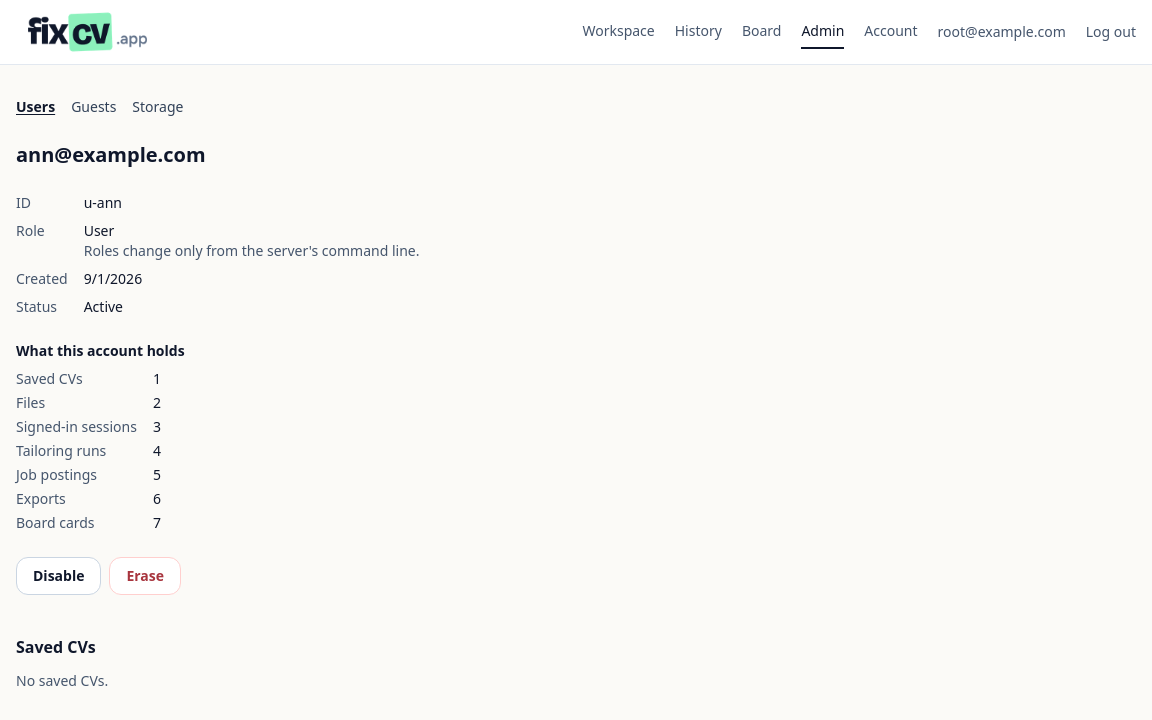
Disable and enable — AC-34 › a refused disable shows an alert in place and leaves the button usable; it is not re-sent
Click the button "Disable": (59, 576) [16,557,102,595]
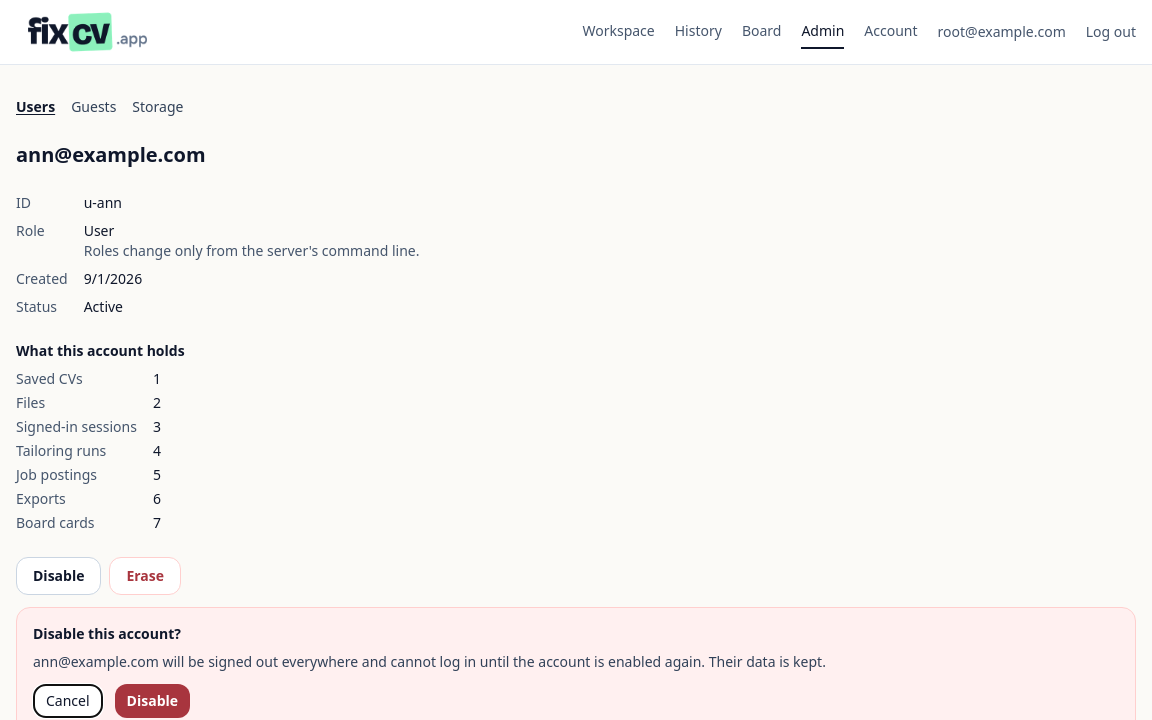
Click the button "Disable" below "Disable this account?": (152, 701) [115,684,190,718]
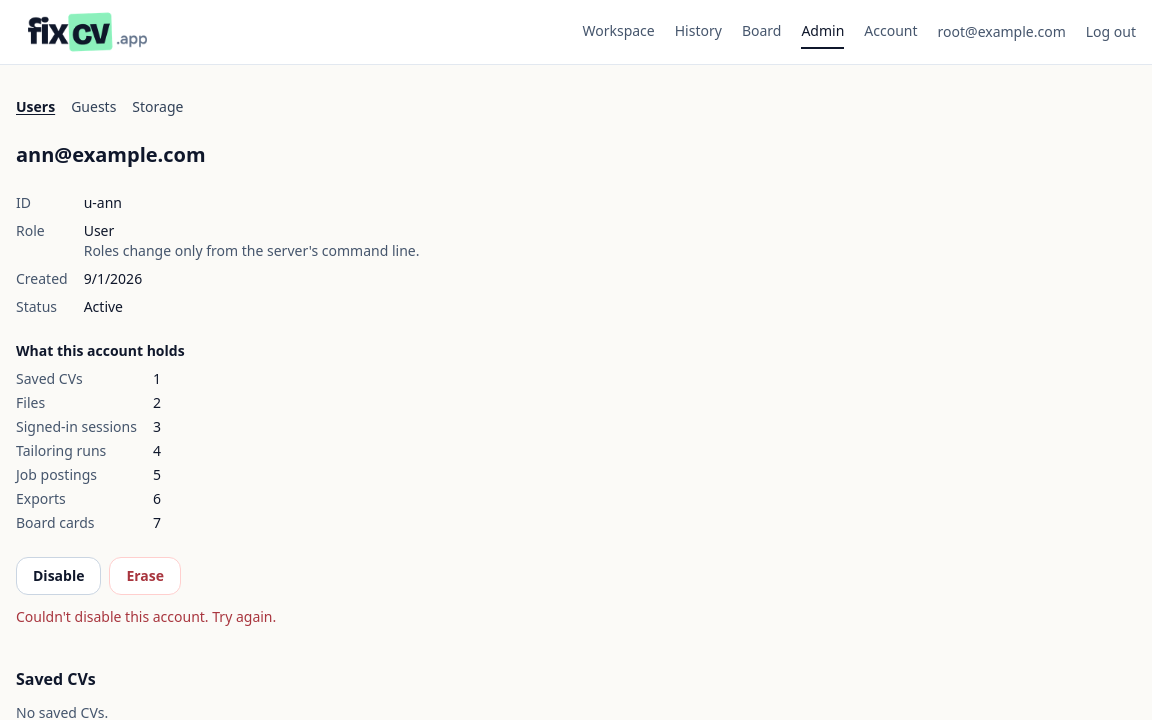
Check: the button "Disable" is enabled, box [16,557,102,595]
Check: the message reads "Couldn't disable this account. Try again.", box [16,607,276,626]
